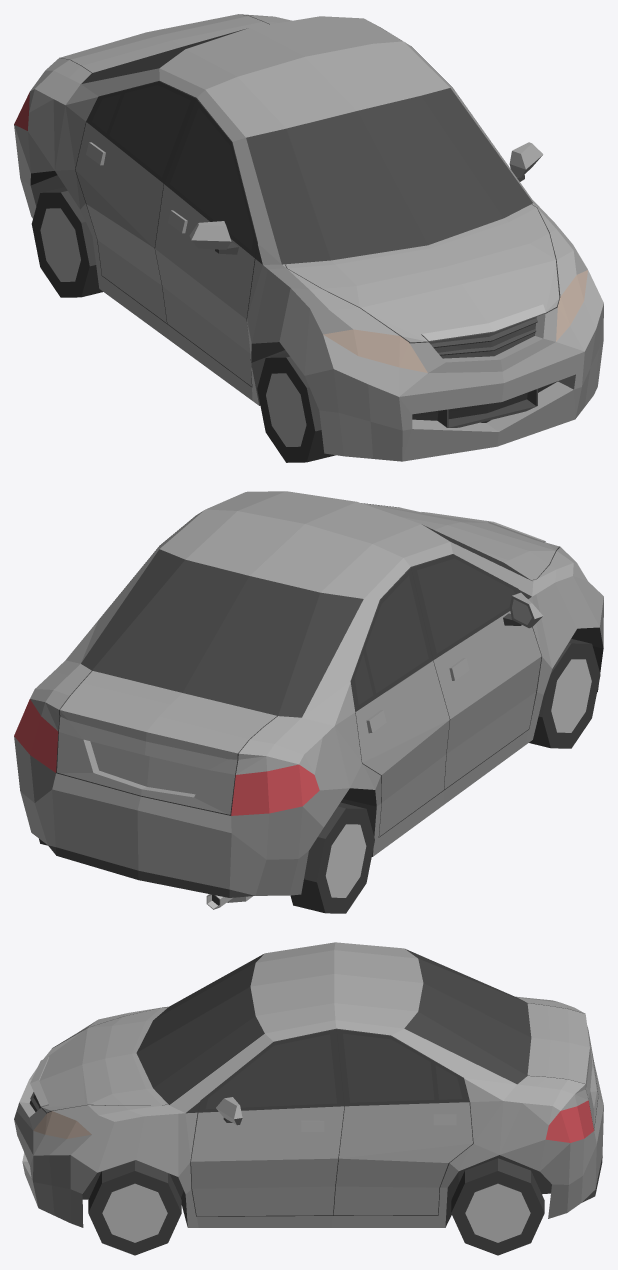
The model's file is CarSedan1Gray.fbx.
The picture shows the model from 3 angles, top to bottom: view 1: azimuth 30°, elevation 25°; view 2: azimuth 150°, elevation 25°; view 3: azimuth 270°, elevation 25°; orthographic projection. The views are drawn at different scales.
Visible parts, largest first — view 1: Cube, wheel_rr, wheel_fr; view 2: Cube, wheel_rr, wheel_fr; view 3: Cube, wheel_rl, wheel_fl.
Boxes of the visible parts, x1,y1,x2,y2 form: Cube: [14, 14, 603, 461]; wheel_rr: [31, 187, 102, 297]; wheel_fr: [257, 353, 335, 462]; Cube: [14, 491, 603, 909]; wheel_rr: [290, 802, 374, 913]; wheel_fr: [529, 638, 600, 748]; Cube: [14, 942, 603, 1227]; wheel_rl: [451, 1158, 544, 1255]; wheel_fl: [88, 1160, 181, 1255].
Size of the model in its own units: 2.04 by 1.55 by 3.67.
